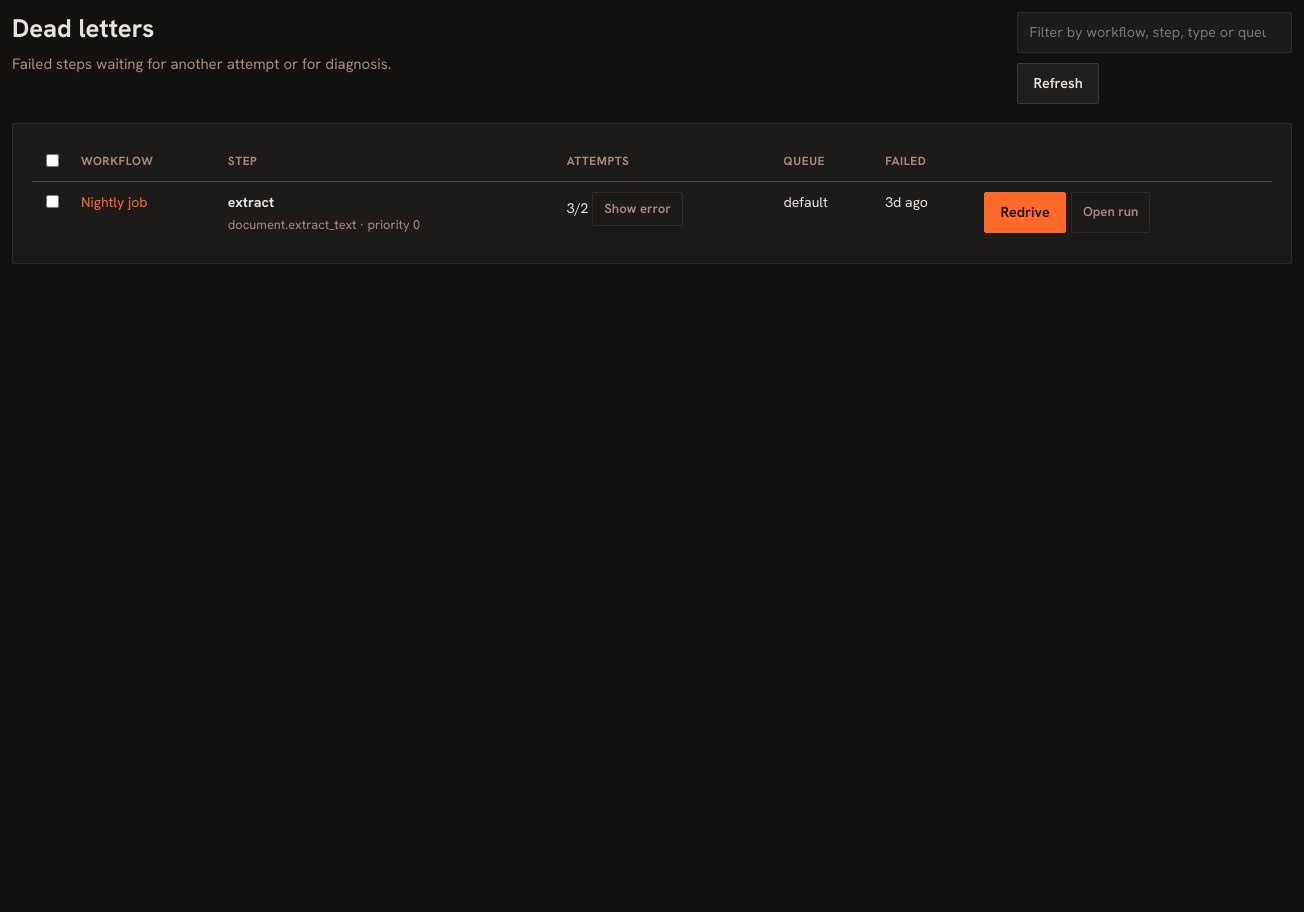
DlqPage › redrives a dead letter and refreshes the list
Click the button "Redrive". click: (1025, 212)
box: 984,192 -> 1066,233
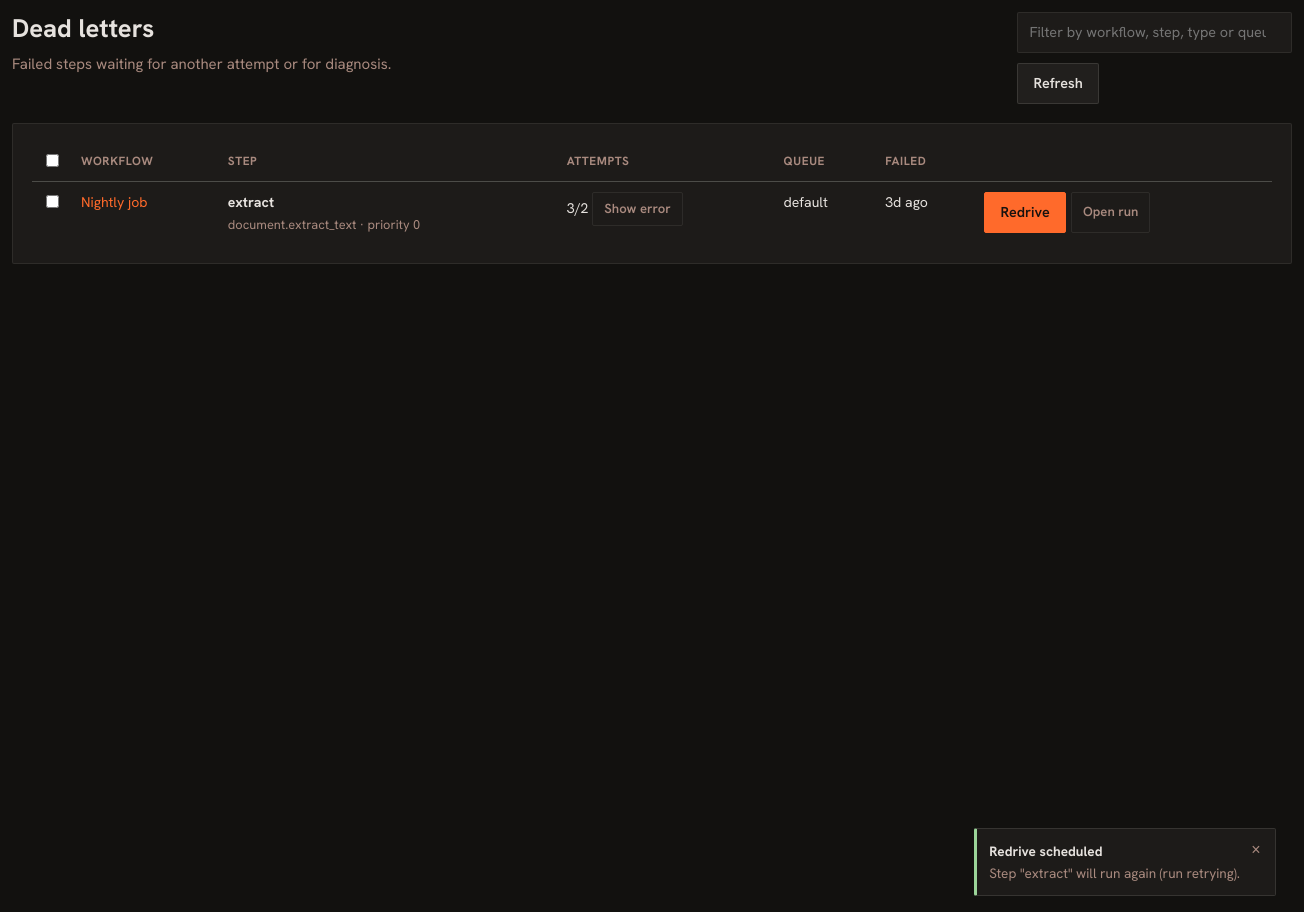
Expected: the message "Redrive scheduled Step \"extract\" will run again (run retrying). ×" is shown, 974,828 -> 1276,896
